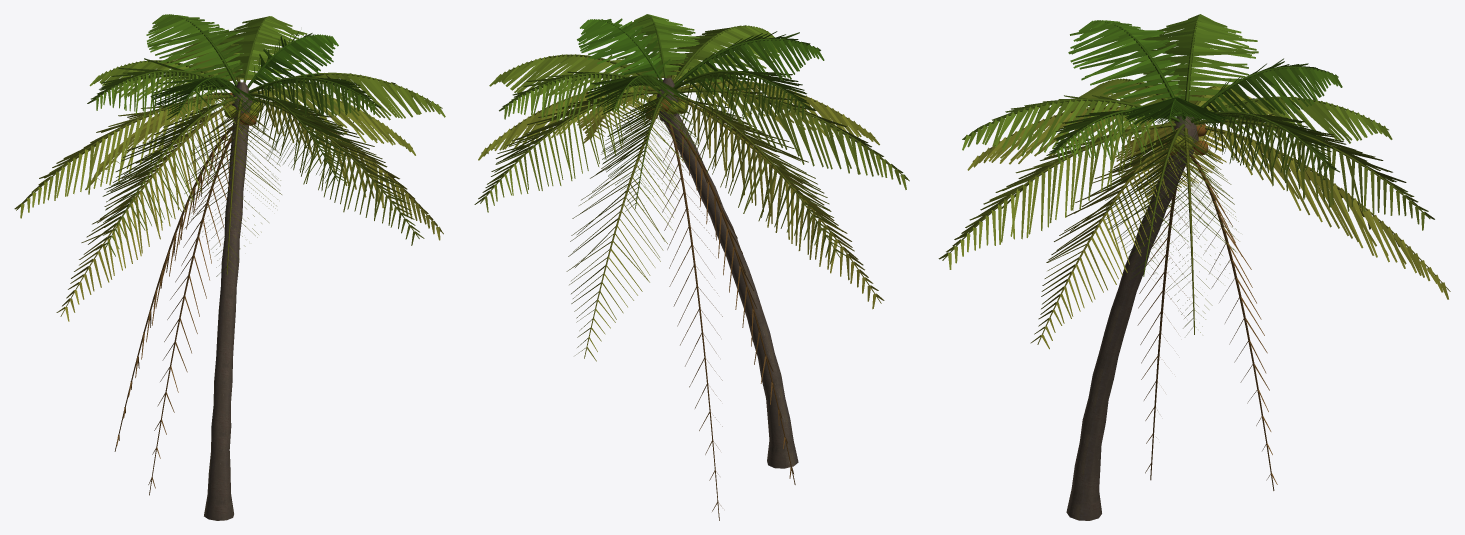
File: palm_4.glb
3 views of the same model, side by side, from view 1: azimuth 30°, elevation 25°; view 2: azimuth 150°, elevation 25°; view 3: azimuth 270°, elevation 25° (orthographic). The views are drawn at different scales.
Visible parts, largest first — view 1: palm_4; view 2: palm_4; view 3: palm_4.
Boxes of the visible parts, x1,y1,x2,y2 form: palm_4: (14, 14, 445, 520); palm_4: (474, 14, 909, 520); palm_4: (938, 14, 1450, 520).
Bounding box in the file's own units: 7.94 × 8.35 × 8.01.
3 materials, 1 textured.
